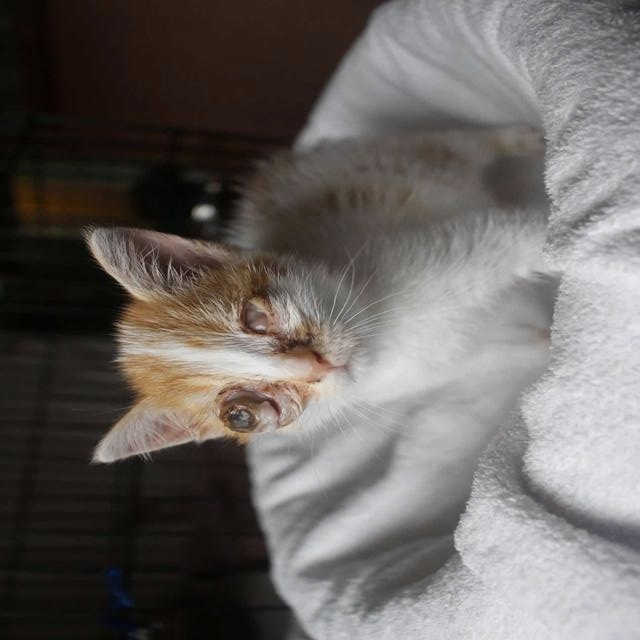eye_infection: (227, 387, 272, 433), (240, 295, 280, 335)
